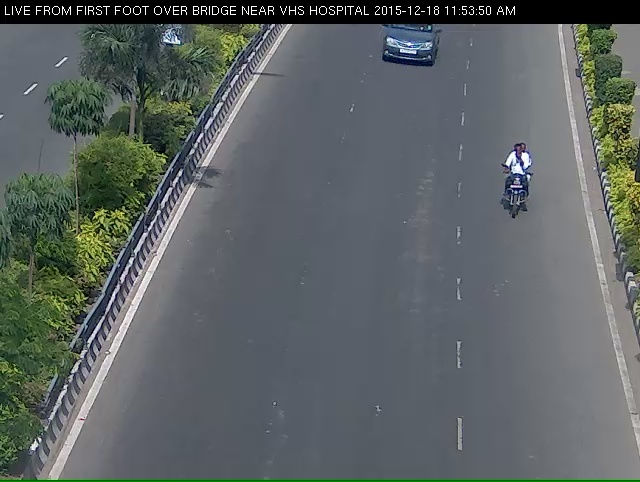Car: (370, 18, 442, 77)
Person: (492, 149, 534, 239)
